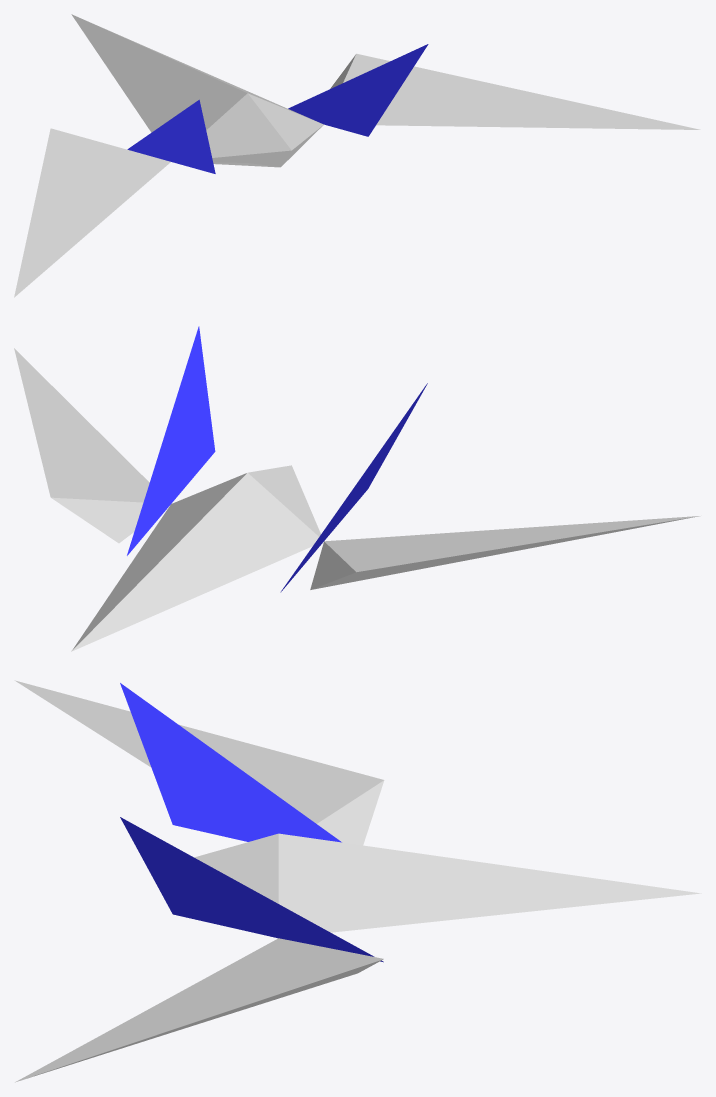
The model's file is retro_ship.fbx.
The picture shows the model from 3 angles, top to bottom: view 1: azimuth 30°, elevation 25°; view 2: azimuth 150°, elevation 25°; view 3: azimuth 270°, elevation 25°; orthographic projection. The views are drawn at different scales.
Parts seen in each view (by area): view 1: Arwing_SNES_Vert.001; view 2: Arwing_SNES_Vert.001; view 3: Arwing_SNES_Vert.001.
Part boxes in pixels (left/top/right/bottom): Arwing_SNES_Vert.001: left=14, top=14, right=700, bottom=297; Arwing_SNES_Vert.001: left=14, top=326, right=699, bottom=651; Arwing_SNES_Vert.001: left=14, top=680, right=701, bottom=1082.
Size of the model in its own units: 592 by 115 by 427.
